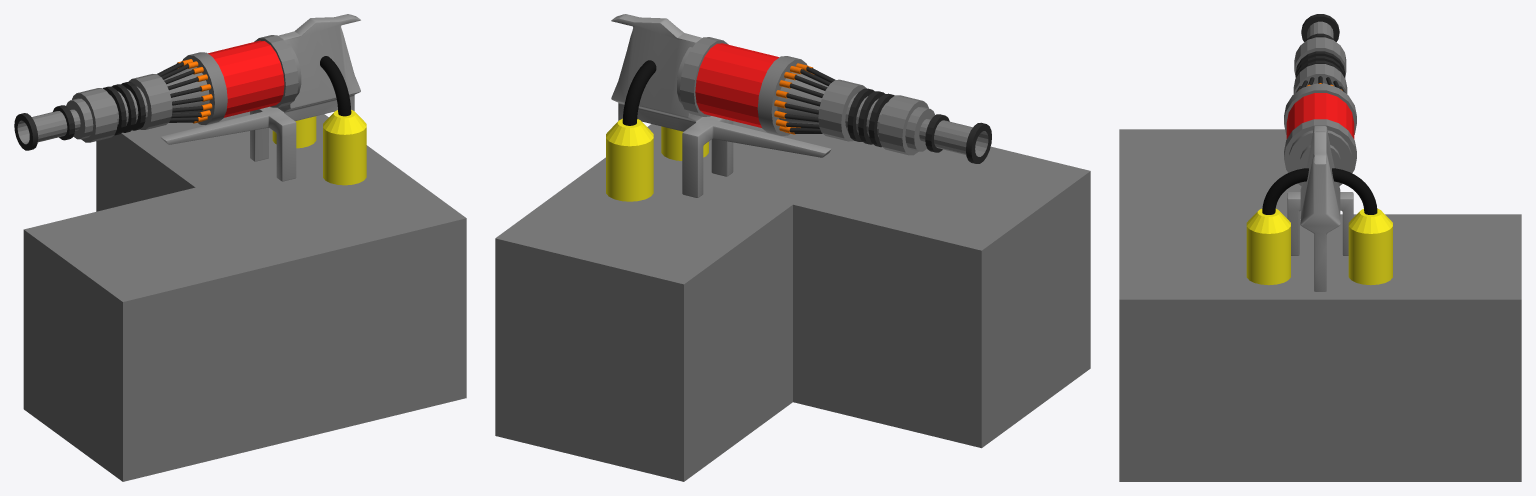
File: BigLaser 1.fbx
The picture shows the model from 3 angles, left to right: view 1: azimuth 30°, elevation 25°; view 2: azimuth 150°, elevation 25°; view 3: azimuth 270°, elevation 25°; orthographic projection. The views are drawn at different scales.
Parts seen in each view (by area): view 1: Floor000, Floor001, Floor002, Laser_Base, Laser_Cannon, Laser_Red, Laser_Yellow001, Laser_Middle, Laser_Rubber000, Laser_Yellow000; view 2: Floor002, Floor000, Laser_Base, Laser_Cannon, Laser_Red, Floor001, Laser_Yellow000, Laser_Middle, Laser_Rubber001, Laser_Yellow001; view 3: Floor002, Floor001, Floor000, Laser_Base, Laser_Red, Laser_Yellow000, Laser_Yellow001, Laser_Cannon, Laser_Cap000, Laser_Rubber000, Laser_Rubber001.
Boxes of the visible parts, left/top/right/bottom form: Floor000: left=23, top=187, right=294, bottom=481; Floor001: left=196, top=145, right=466, bottom=439; Floor002: left=96, top=111, right=366, bottom=211; Laser_Base: left=160, top=14, right=360, bottom=181; Laser_Cannon: left=14, top=74, right=172, bottom=150; Laser_Red: left=182, top=35, right=298, bottom=124; Laser_Yellow001: left=323, top=110, right=366, bottom=185; Laser_Middle: left=163, top=67, right=209, bottom=113; Laser_Rubber000: left=320, top=56, right=351, bottom=116; Laser_Yellow000: left=272, top=116, right=316, bottom=148; Floor002: left=495, top=158, right=792, bottom=481; Floor000: left=793, top=145, right=1090, bottom=448; Laser_Base: left=611, top=14, right=831, bottom=197; Laser_Cannon: left=818, top=79, right=991, bottom=163; Laser_Red: left=680, top=37, right=807, bottom=135; Floor001: left=604, top=121, right=873, bottom=204; Laser_Yellow000: left=606, top=118, right=653, bottom=201; Laser_Middle: left=777, top=72, right=827, bottom=124; Laser_Rubber001: left=622, top=60, right=656, bottom=125; Laser_Yellow001: left=661, top=126, right=708, bottom=160; Floor002: left=1320, top=214, right=1521, bottom=481; Floor001: left=1119, top=214, right=1320, bottom=481; Floor000: left=1119, top=129, right=1301, bottom=214; Laser_Base: left=1287, top=126, right=1353, bottom=291; Laser_Red: left=1284, top=84, right=1356, bottom=185; Laser_Yellow000: left=1348, top=208, right=1392, bottom=285; Laser_Yellow001: left=1246, top=208, right=1290, bottom=285; Laser_Cannon: left=1293, top=14, right=1347, bottom=93; Laser_Cap000: left=1289, top=130, right=1351, bottom=183; Laser_Rubber000: left=1262, top=168, right=1308, bottom=214; Laser_Rubber001: left=1332, top=168, right=1377, bottom=214.
Size of the model in its own units: 79 by 69.98 by 79.
